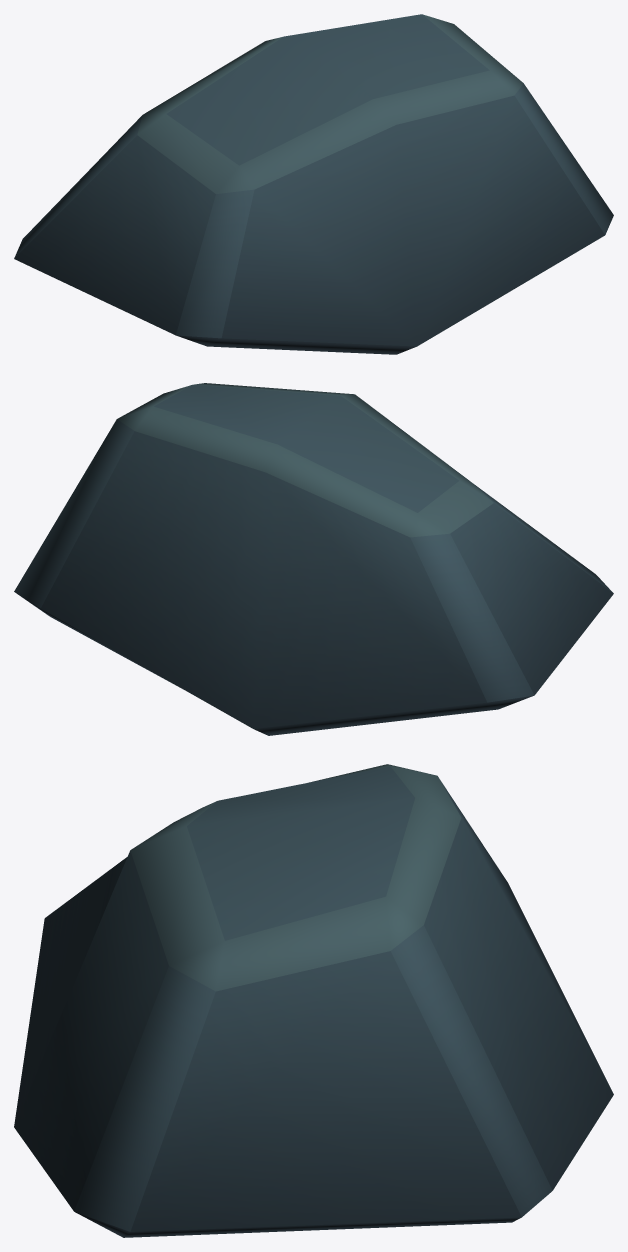
Rendered from rock_23.fbx.
3 views of the same model, one above another, from view 1: azimuth 30°, elevation 25°; view 2: azimuth 150°, elevation 25°; view 3: azimuth 270°, elevation 25° (orthographic). The views are drawn at different scales.
Parts seen in each view (by area): view 1: rock_23; view 2: rock_23; view 3: rock_23.
Part boxes in pixels (x1,y1,x2,y2): rock_23: (14,14,613,354); rock_23: (14,383,613,735); rock_23: (14,764,613,1237).
Size of the model in its own units: 253 by 114 by 174.
